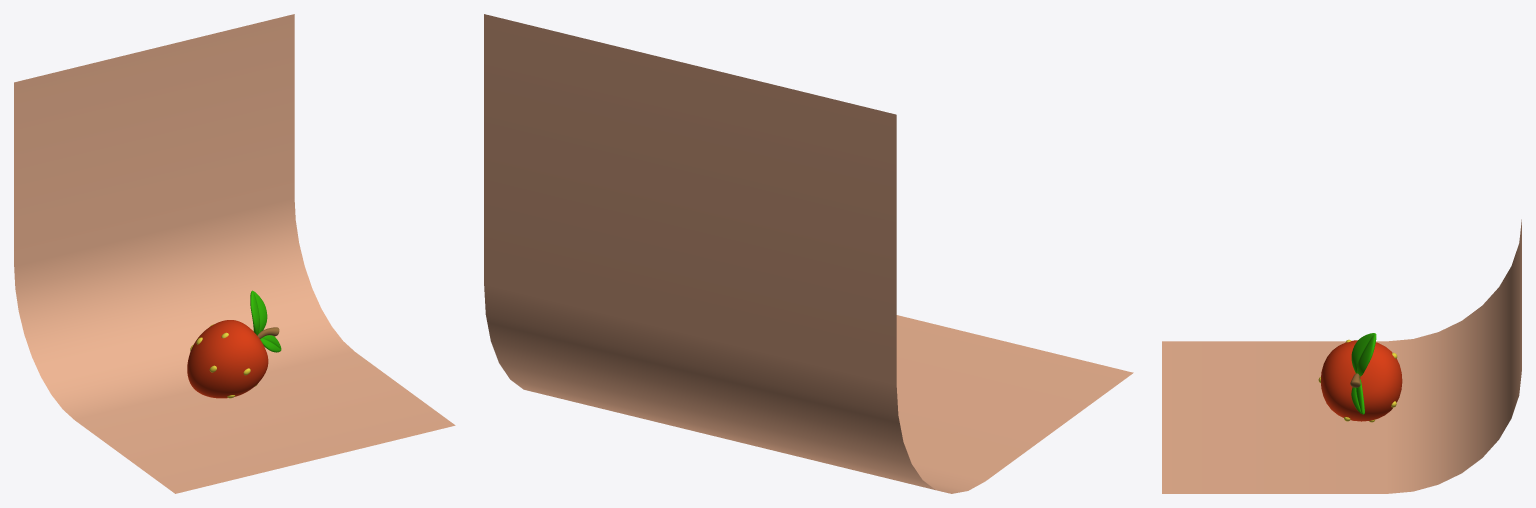
Rendered from strawberrySub.glb.
3 renders of one model, left to right at view 1: azimuth 30°, elevation 25°; view 2: azimuth 150°, elevation 25°; view 3: azimuth 270°, elevation 25°, orthographic. The views are drawn at different scales.
Visible parts, largest first — view 1: 평면.002, 큐브, 평면.001; view 2: 평면.002; view 3: 평면.002, 큐브, 평면.001.
Part boxes in pixels (x1=…): 평면.002: x1=14, y1=14, x2=455, y2=493; 큐브: x1=187, y1=320, x2=268, y2=398; 평면.001: x1=250, y1=290, x2=267, y2=335; 평면.002: x1=484, y1=14, x2=1133, y2=493; 평면.002: x1=1162, y1=219, x2=1521, y2=493; 큐브: x1=1321, y1=340, x2=1402, y2=421; 평면.001: x1=1351, y1=333, x2=1376, y2=376.
Size of the model in its own units: 11.15 by 11.15 by 11.1.
